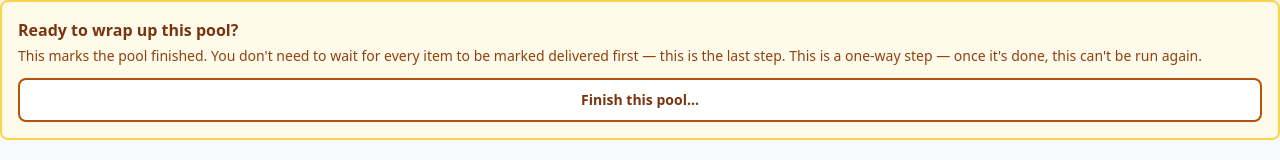
Test: CompletePoolAction › is unreachable without first passing through the 'this can't be undone' step
The width and height of the screenshot is (1280, 160).
Later steps or results of the test are not shown.
Click the button "Finish this pool…": (640, 100) top-left (18, 78), bottom-right (1262, 122)
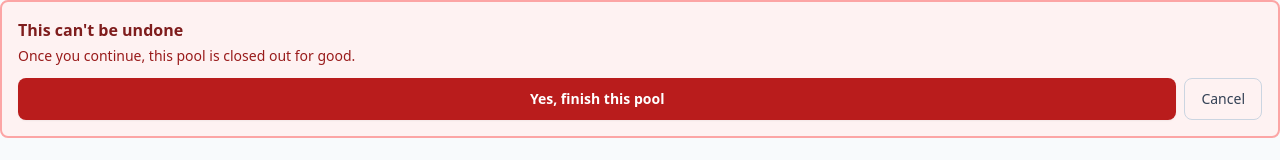
Expected: the heading "This can't be undone" is shown, top-left (18, 19), bottom-right (183, 41)
